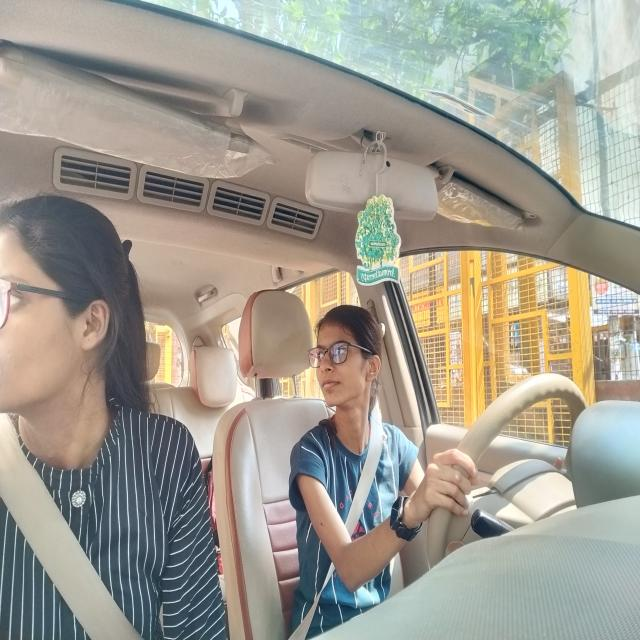LeftRight: (315, 304, 389, 436)
person: (4, 190, 139, 452)
